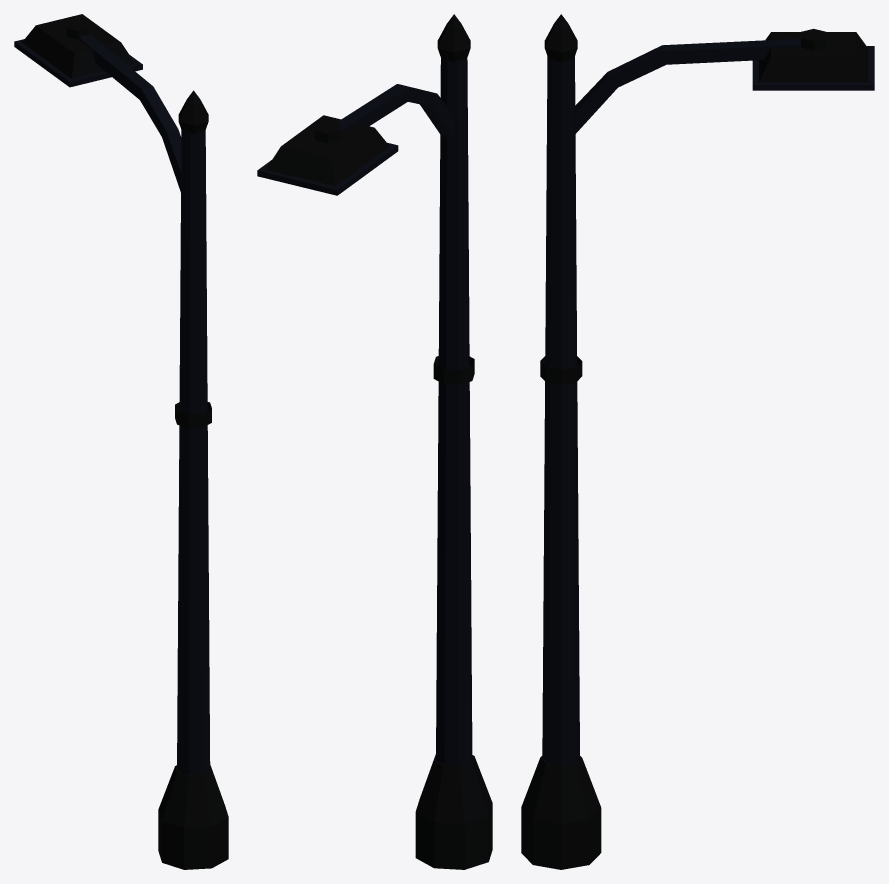
Rendered from street_lamp.glb.
3 views of the same model, side by side, from view 1: azimuth 30°, elevation 25°; view 2: azimuth 150°, elevation 25°; view 3: azimuth 270°, elevation 25° (orthographic). The views are drawn at different scales.
Visible parts, largest first — view 1: SM_StreetLamp; view 2: SM_StreetLamp; view 3: SM_StreetLamp.
Boxes of the visible parts, box(x1,y1,x2,y2) form: SM_StreetLamp: box(14, 14, 228, 869); SM_StreetLamp: box(257, 14, 492, 869); SM_StreetLamp: box(521, 14, 874, 869).
Bounding box in the file's own units: 0.44 × 4.4 × 1.68.
1 material, 1 textured.
